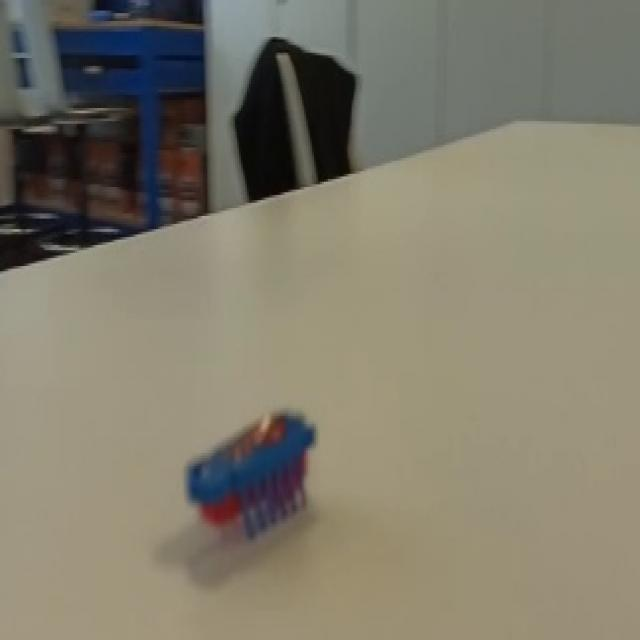1_NanoBug_Azul: (109, 364, 418, 600)
